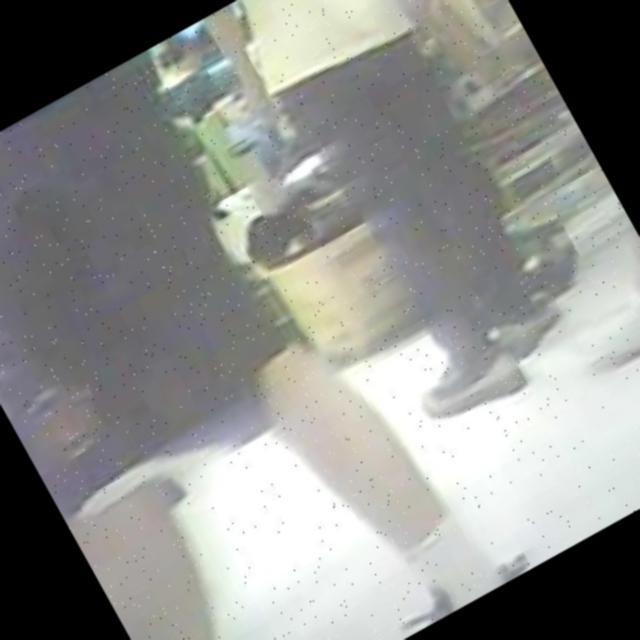person: (0, 23, 507, 640), (201, 0, 591, 432)
